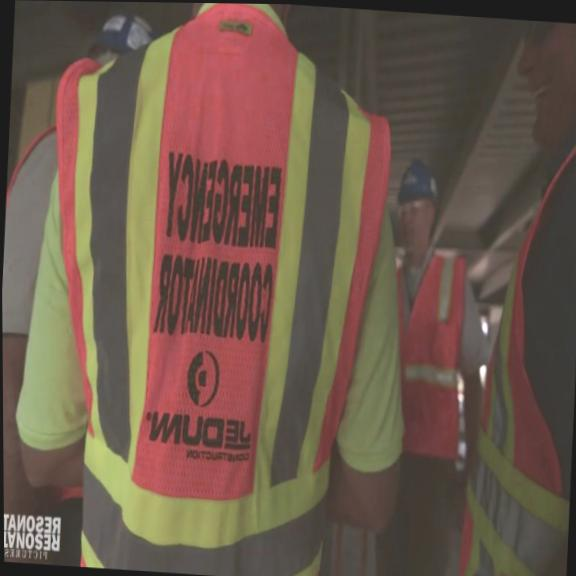safety_vest: (31, 0, 425, 576), (449, 116, 576, 576), (384, 248, 468, 464), (3, 119, 55, 229)
